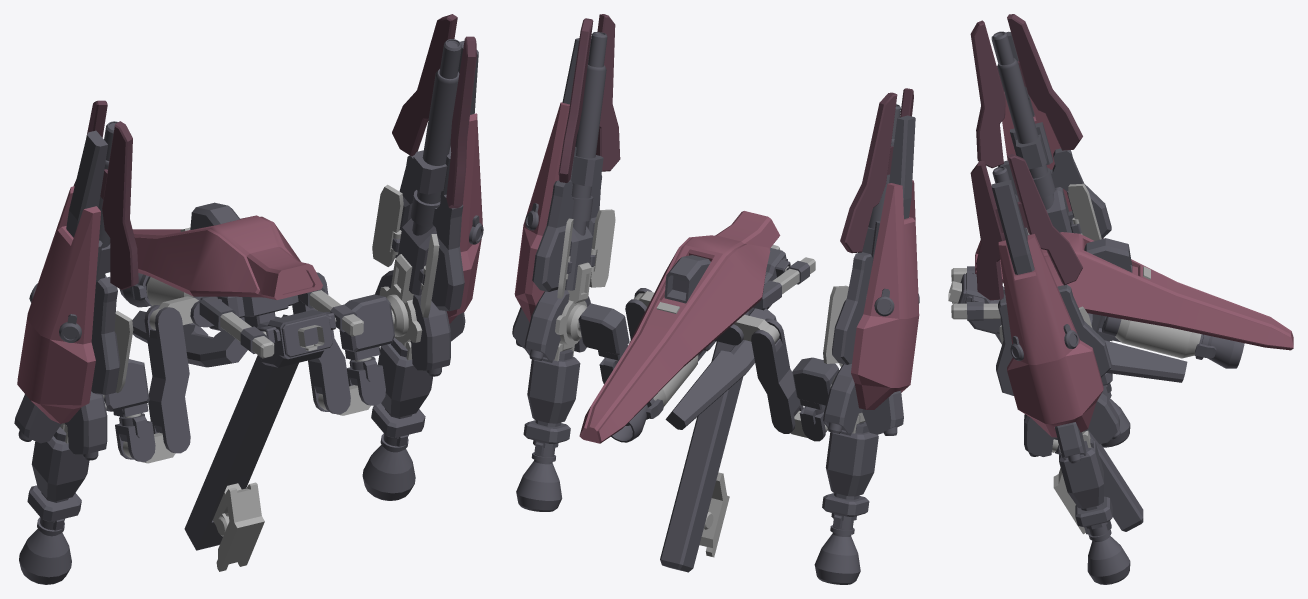
Rendered from WpMD_FunnelStation_01.fbx.
3 views of the same model, side by side, from view 1: azimuth 30°, elevation 25°; view 2: azimuth 150°, elevation 25°; view 3: azimuth 270°, elevation 25° (orthographic). The views are drawn at different scales.
Parts seen in each view (by area): view 1: DroneStation_mesh; view 2: DroneStation_mesh; view 3: DroneStation_mesh.
Part boxes in pixels (x1=…): DroneStation_mesh: x1=14, y1=14, x2=483, y2=584; DroneStation_mesh: x1=512, y1=14, x2=919, y2=584; DroneStation_mesh: x1=948, y1=14, x2=1293, y2=584.
Bounding box in the file's own units: 668 × 782 × 551.
